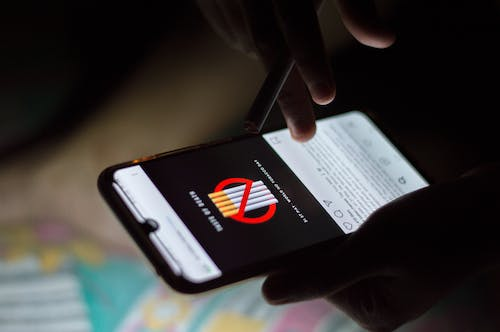cigarette: (240, 0, 327, 135), (206, 179, 280, 219)
